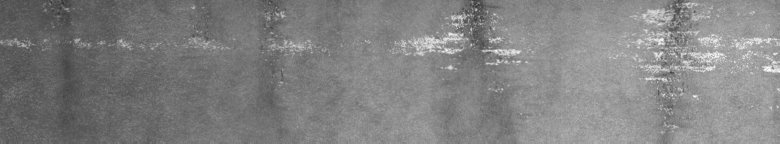hc: (390, 4, 527, 92)
